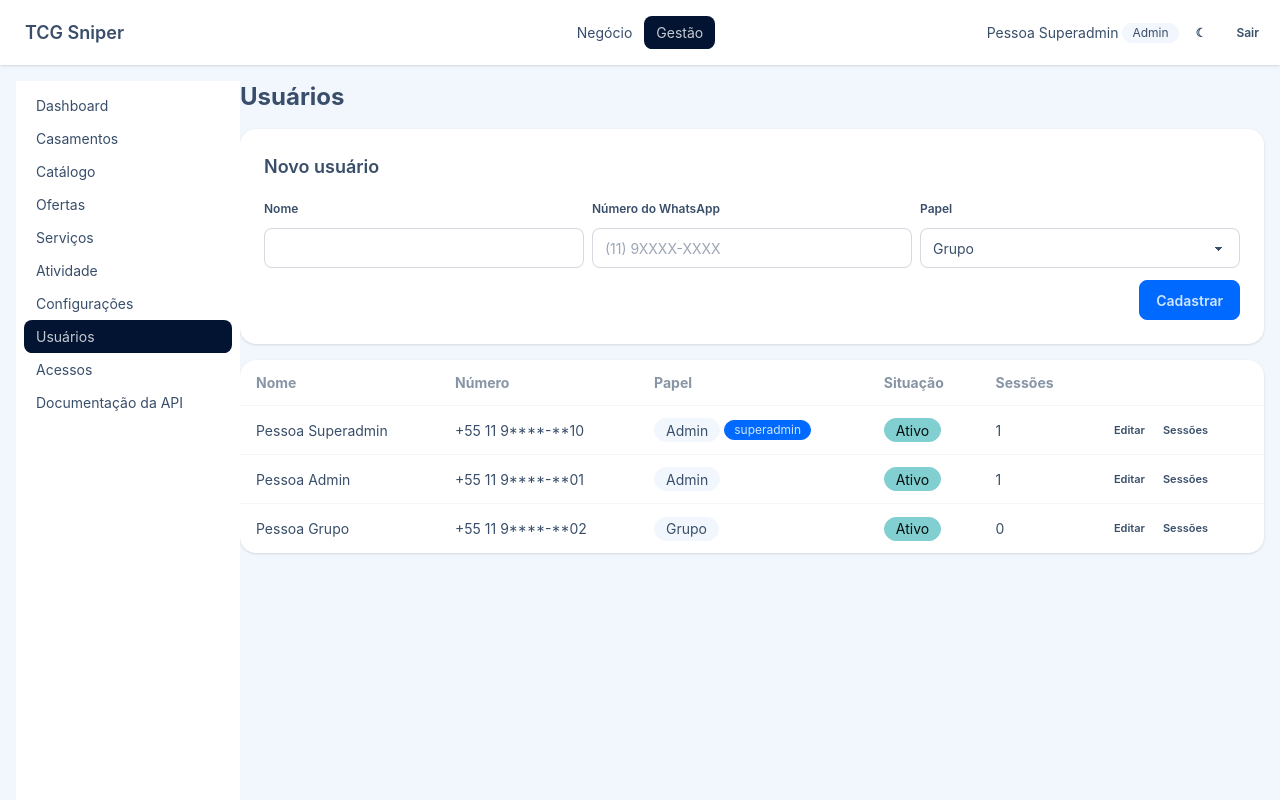
Test: Gestão → Usuários › superadmin gere admins e, na própria linha, só muda o nome
Expected: the table is shown, [240,360,1264,552]
Expected: the button "Editar" in the row of "Pessoa Admin" is shown, [1105,467,1154,491]
Click the button "Editar" in the row of "+55 11 9****-**10" at {"x": 1129, "y": 430}, box [1105,418,1154,442]
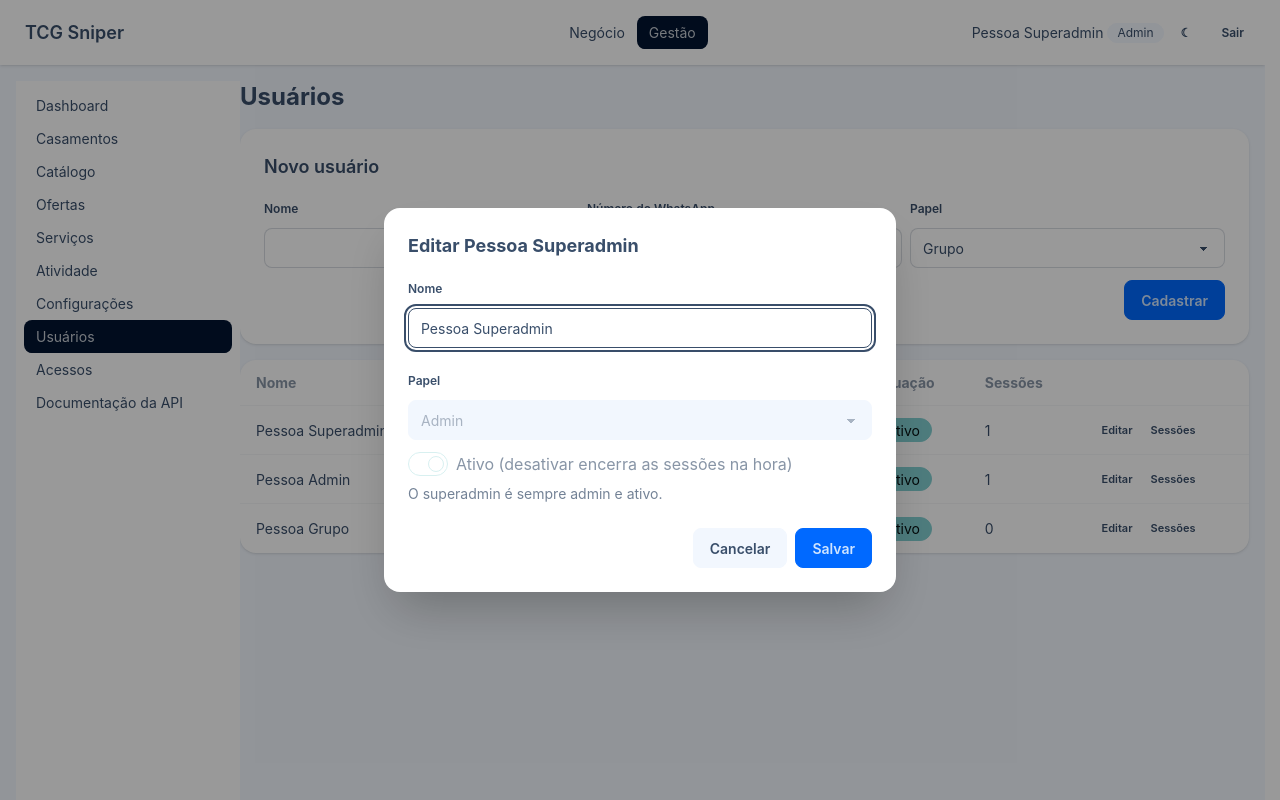
Expected: the dropdown labelled "Papel" is disabled, [408,400,872,440]
Expected: the checkbox labelled "Ativo (desativar encerra as sessões na hora)" is disabled, [408,452,448,476]
Expected: the field labelled "Nome" is enabled, [408,308,872,348]
